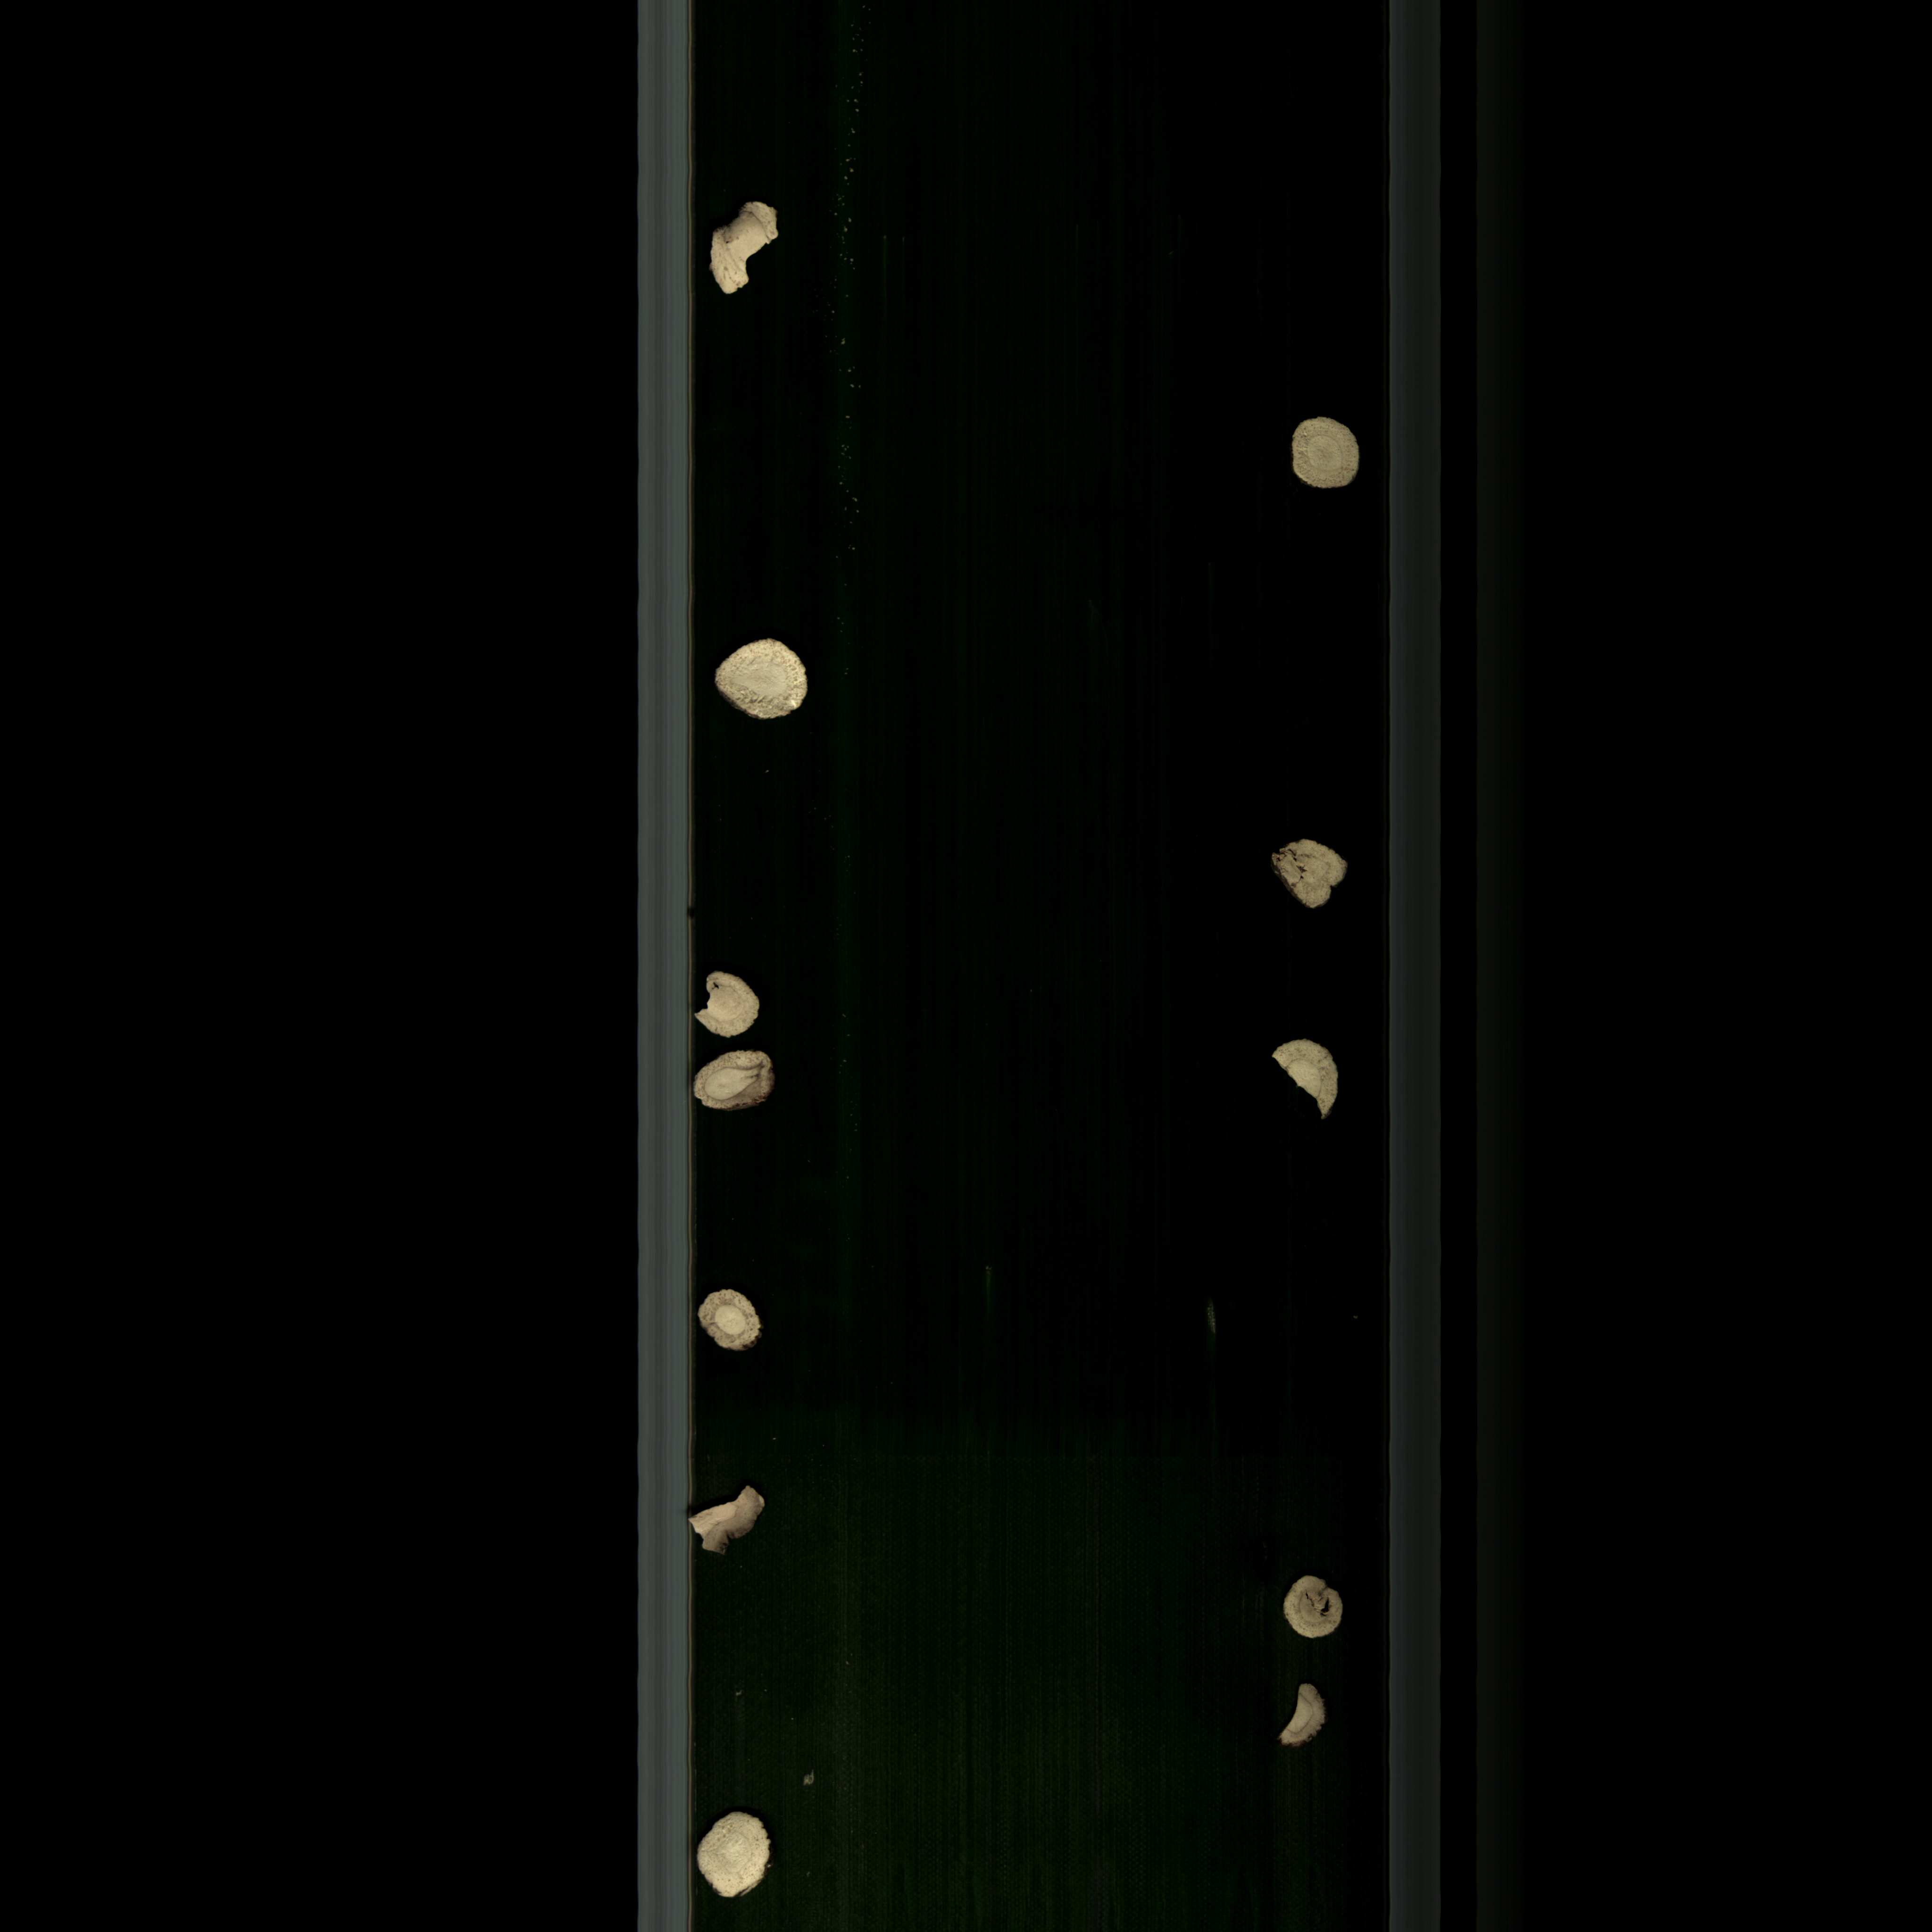debris: (697, 188, 791, 304), (1263, 1031, 1346, 1132), (686, 1477, 773, 1560), (690, 959, 764, 1040), (1272, 1679, 1339, 1759)
dreg: (791, 1767, 830, 1794)
hole: (1265, 826, 1355, 920), (1267, 1560, 1355, 1651)
moldy: (690, 1042, 793, 1116), (695, 1283, 771, 1359)
